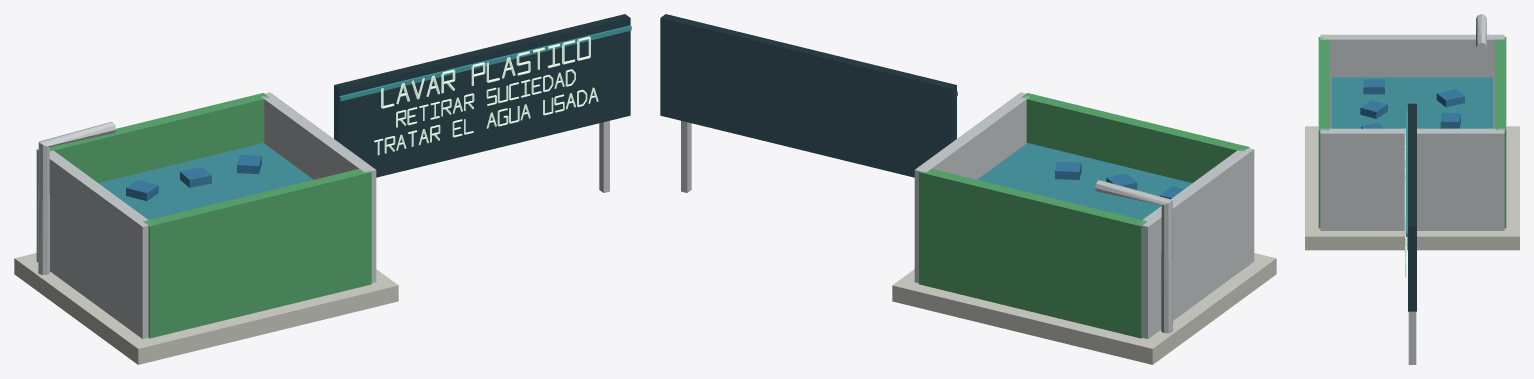
The model's file is CYCLE-017.glb.
The picture shows the model from 3 angles, left to right: view 1: azimuth 30°, elevation 25°; view 2: azimuth 150°, elevation 25°; view 3: azimuth 270°, elevation 25°; orthographic projection. The views are drawn at different scales.
Visible parts, largest first — view 1: CYCLE-017; view 2: CYCLE-017; view 3: CYCLE-017.
Boxes of the visible parts, bbox=[...] form: CYCLE-017: bbox=[14, 14, 631, 364]; CYCLE-017: bbox=[660, 14, 1276, 364]; CYCLE-017: bbox=[1305, 14, 1519, 364].
Size of the model in its own units: 7.2 by 2.11 by 2.8.
